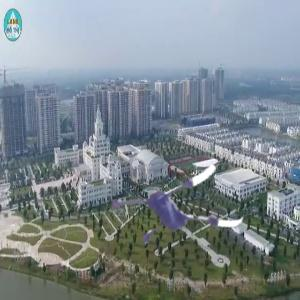drone: (112, 137, 246, 271)
